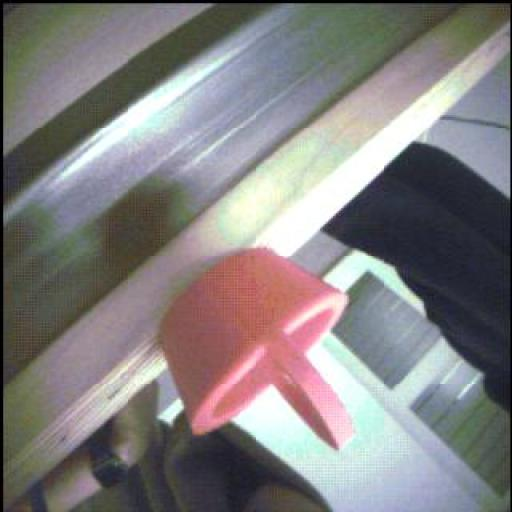Bucket: (158, 244, 376, 455)
